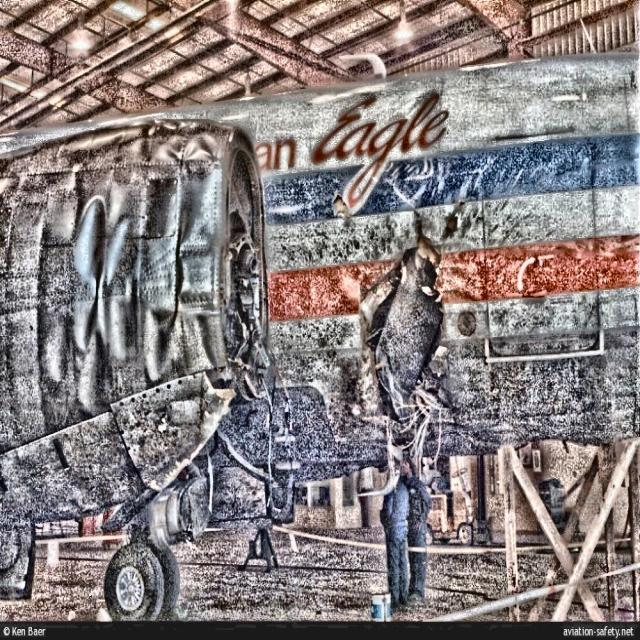dent: (44, 176, 188, 417)
